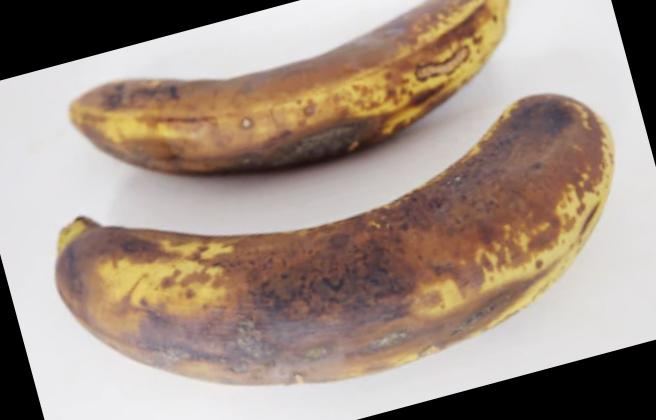Banana Overripe: (44, 18, 622, 401)
